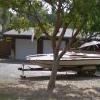Boat: (19, 44, 97, 77)
